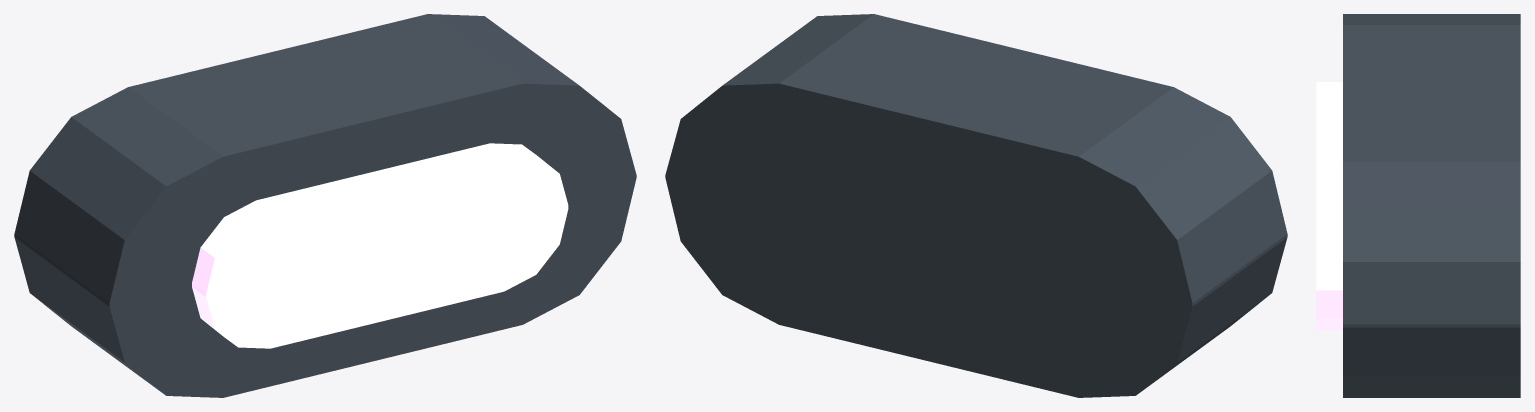
Rendered from Signal_Lamp3D.gltf.
The picture shows the model from 3 angles, left to right: view 1: azimuth 30°, elevation 25°; view 2: azimuth 150°, elevation 25°; view 3: azimuth 270°, elevation 25°; orthographic projection. The views are drawn at different scales.
Visible parts, largest first — view 1: Signal_Lamp3D_baked; view 2: Signal_Lamp3D_baked; view 3: Signal_Lamp3D_baked.
Part boxes in pixels (box(x1,y1,x2,y2)): Signal_Lamp3D_baked: box(14, 14, 636, 397); Signal_Lamp3D_baked: box(665, 14, 1287, 397); Signal_Lamp3D_baked: box(1316, 14, 1520, 397).
Size of the model in its own units: 0.32 by 0.14 by 0.115.
